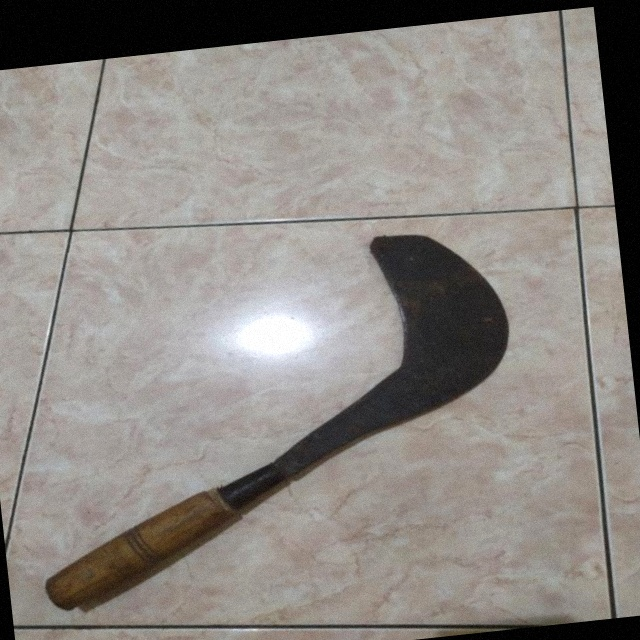Sharp-Object: (3, 203, 541, 621)
